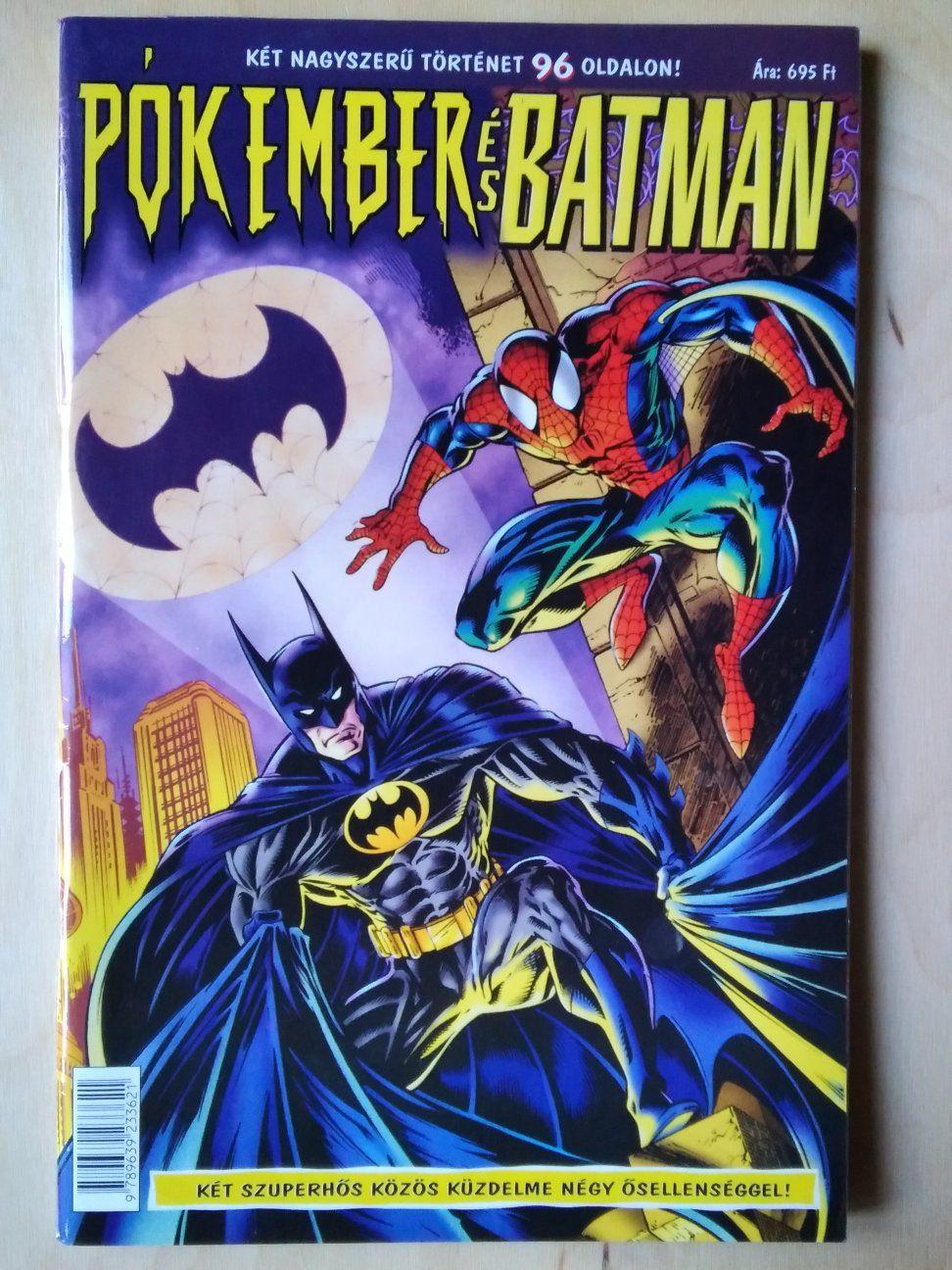comic: (58, 19, 858, 1245)
